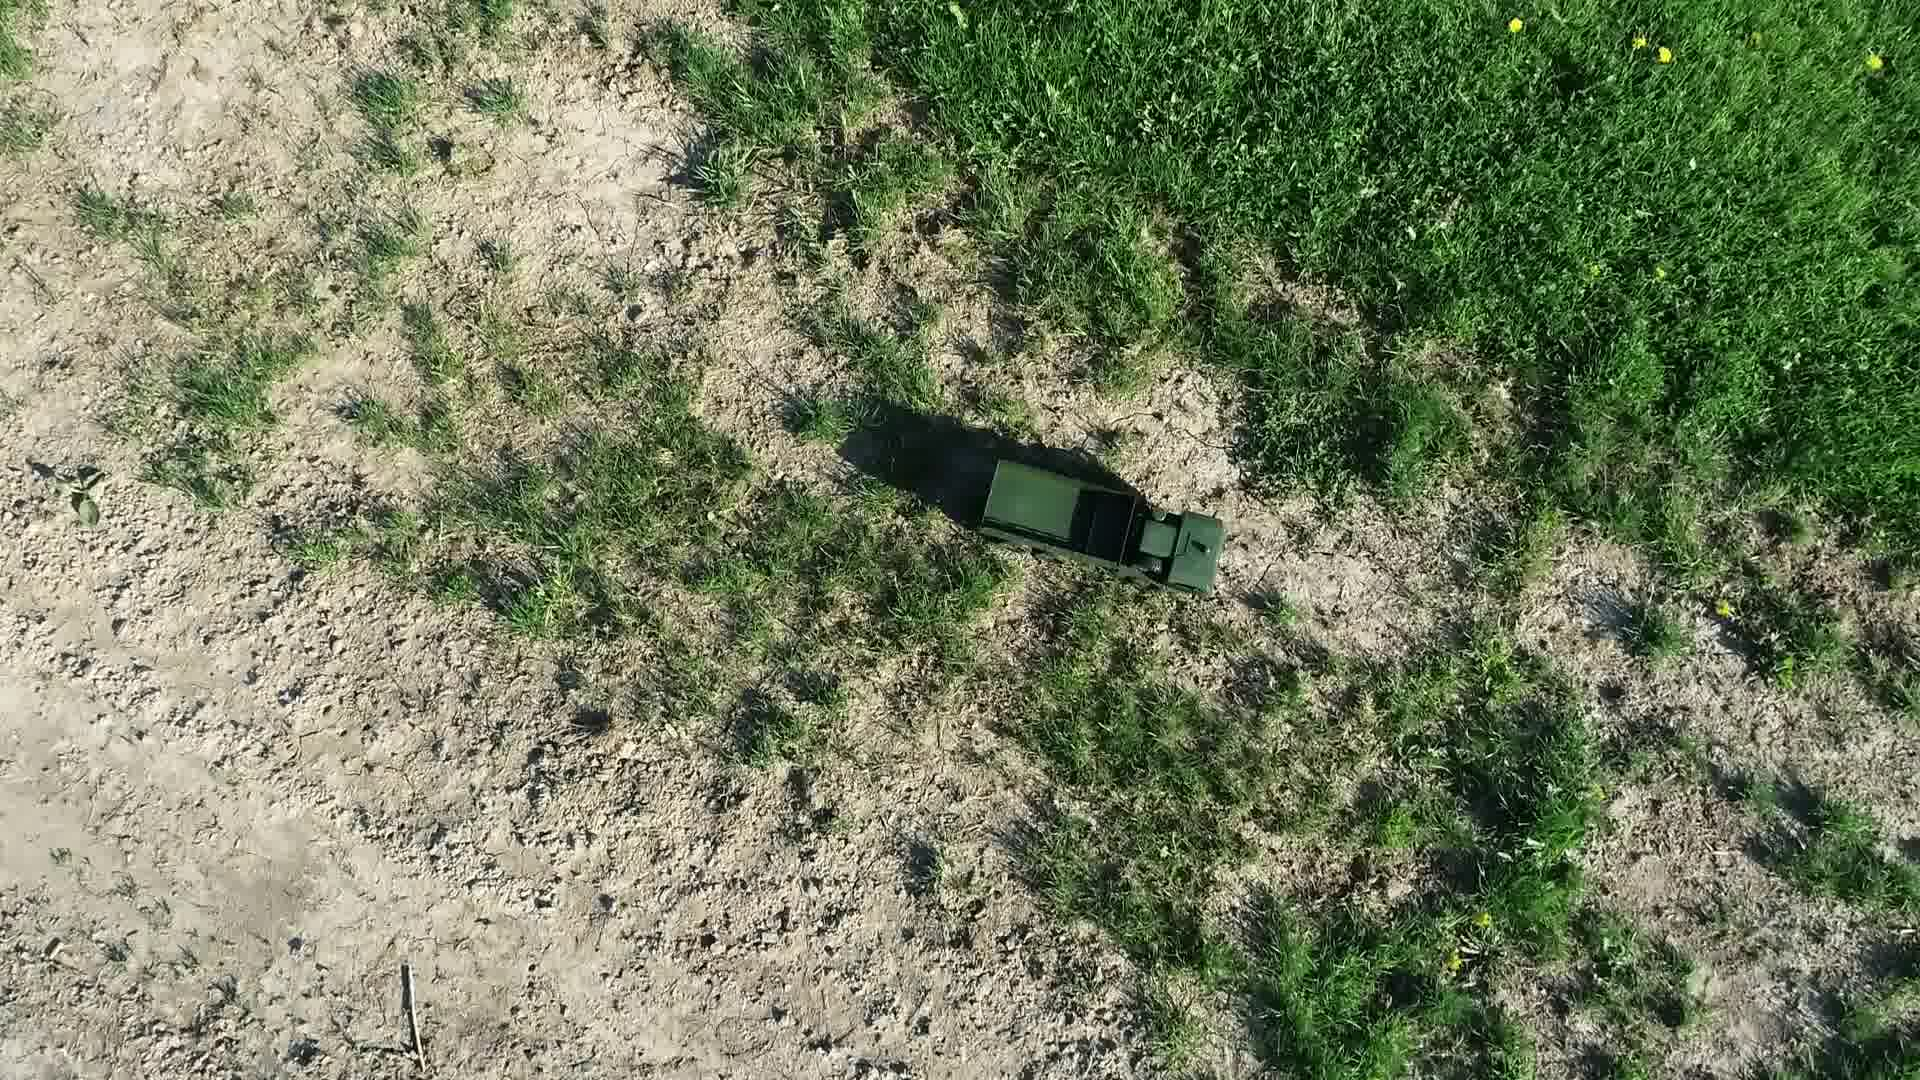transporter9: (968, 451, 1240, 609)
